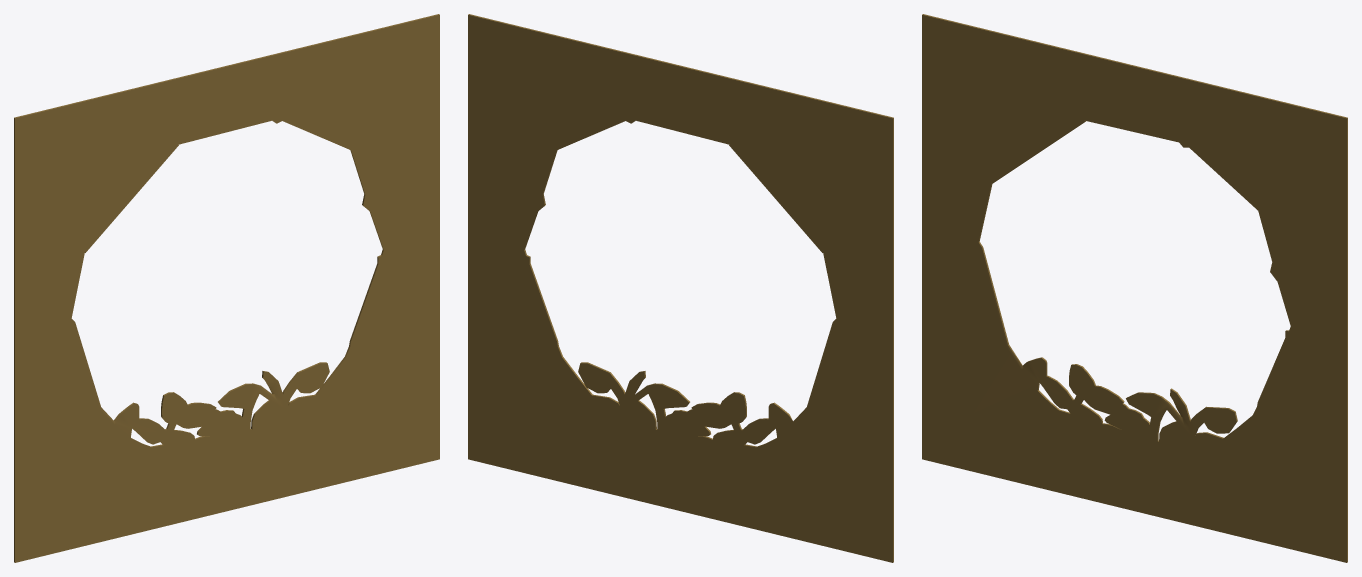
Rendered from Autumn_B_1.fbx.
3 views of the same model, side by side, from view 1: azimuth 30°, elevation 25°; view 2: azimuth 150°, elevation 25°; view 3: azimuth 330°, elevation 25° (orthographic).
Visible parts, largest first — view 1: fall1b; view 2: fall1b; view 3: fall1b.
Boxes of the visible parts, x1,y1,x2,y2 form: fall1b: (14,14,439,562); fall1b: (468,14,893,562); fall1b: (922,14,1347,562).
Bounding box in the file's own units: 10.12 × 10.12 × 0.0458.
